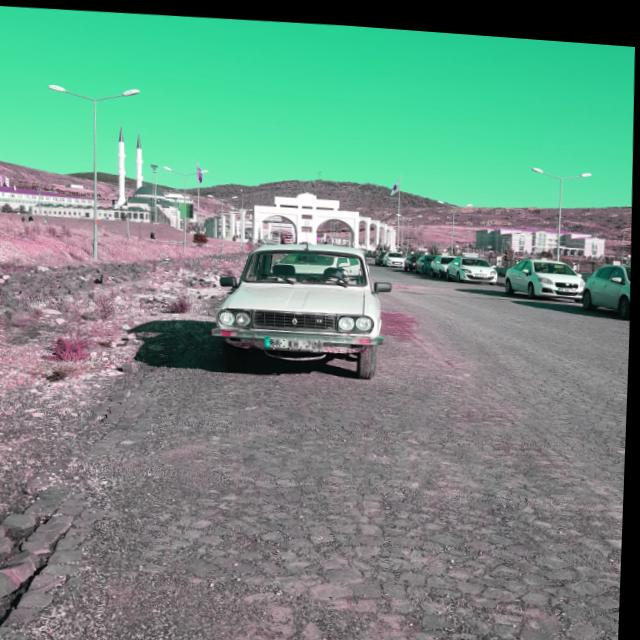license_plate: (266, 331, 325, 347)
